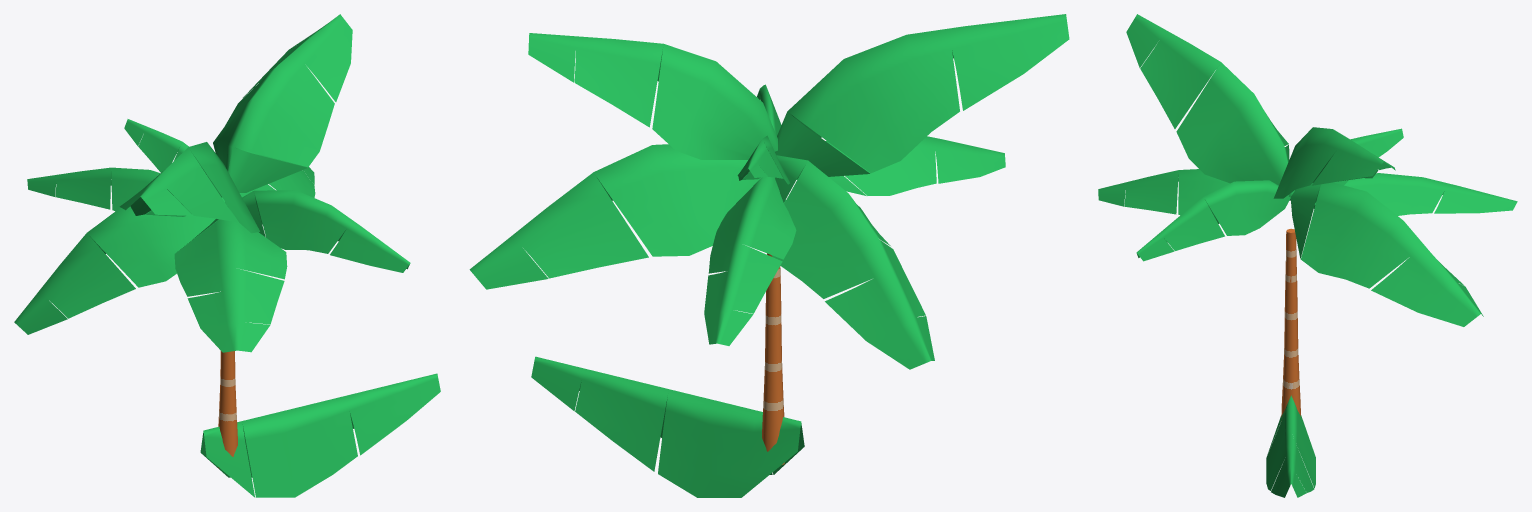
The model's file is palmtree.glb.
3 views of the same model, side by side, from view 1: azimuth 30°, elevation 25°; view 2: azimuth 150°, elevation 25°; view 3: azimuth 270°, elevation 25° (orthographic). The views are drawn at different scales.
Visible parts, largest first — view 1: Plane, Plane.006, Plane.007, Plane.008, Plane.002, Plane.003, Plane.009, Cylinder, Plane.004, Plane.005; view 2: Plane.003, Plane.005, Plane, Plane.006, Plane.007, Plane.009, Plane.008, Cylinder, Plane.004; view 3: Plane.005, Plane.003, Plane.002, Plane.009, Plane.006, Plane.008, Plane, Cylinder, Plane.004.
Boxes of the visible parts, x1=… form: Plane: x1=200, y1=373, x2=440, y2=497; Plane.006: x1=213, y1=14, x2=352, y2=192; Plane.007: x1=14, y1=197, x2=224, y2=334; Plane.008: x1=174, y1=206, x2=287, y2=352; Plane.002: x1=242, y1=190, x2=410, y2=272; Plane.003: x1=119, y1=142, x2=259, y2=233; Plane.009: x1=27, y1=167, x2=160, y2=211; Cylinder: x1=218, y1=351, x2=237, y2=468; Plane.004: x1=124, y1=119, x2=227, y2=205; Plane.005: x1=236, y1=148, x2=315, y2=197; Plane.003: x1=773, y1=14, x2=1069, y2=179; Plane.005: x1=469, y1=144, x2=760, y2=289; Plane: x1=531, y1=356, x2=804, y2=497; Plane.006: x1=528, y1=33, x2=777, y2=159; Plane.007: x1=771, y1=155, x2=934, y2=369; Plane.009: x1=704, y1=175, x2=796, y2=345; Plane.008: x1=796, y1=136, x2=1005, y2=195; Cylinder: x1=762, y1=253, x2=784, y2=464; Plane.004: x1=737, y1=135, x2=789, y2=184; Plane.005: x1=1290, y1=182, x2=1483, y2=326; Plane.003: x1=1126, y1=14, x2=1294, y2=196; Plane.002: x1=1136, y1=180, x2=1290, y2=261; Plane.009: x1=1315, y1=173, x2=1517, y2=215; Plane.006: x1=1273, y1=127, x2=1395, y2=198; Plane.008: x1=1098, y1=169, x2=1229, y2=215; Plane: x1=1266, y1=395, x2=1315, y2=497; Cylinder: x1=1281, y1=228, x2=1300, y2=416; Plane.004: x1=1333, y1=128, x2=1403, y2=185.
Bounding box in the file's own units: 7.43 × 7.44 × 7.62.
2 materials, 1 textured.
